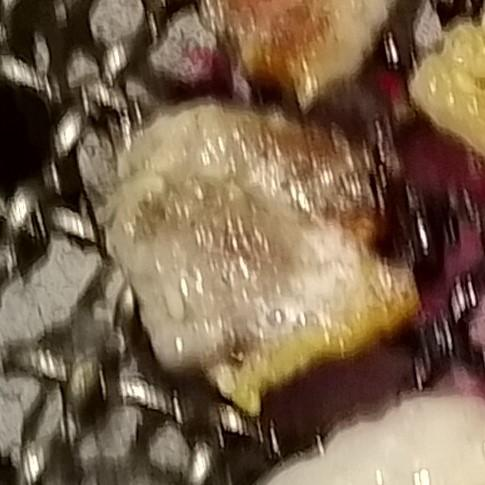Overcooked: (108, 103, 420, 414)
